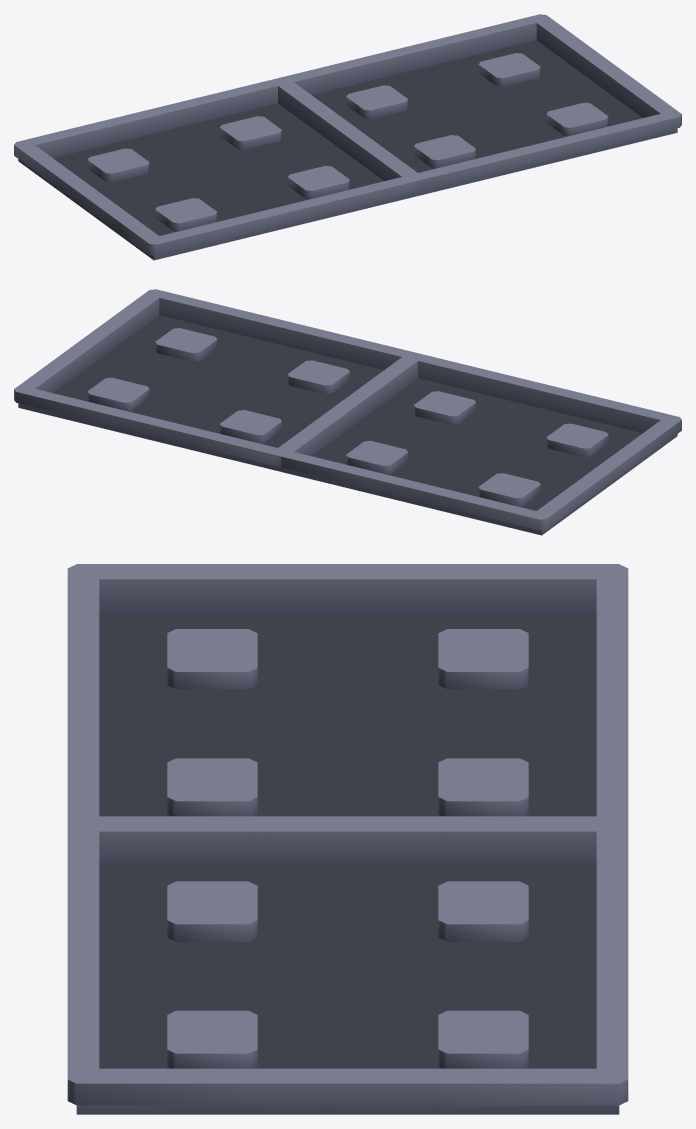
Rendered from commercial-i.glb.
3 renders of one model, top to bottom at view 1: azimuth 30°, elevation 25°; view 2: azimuth 150°, elevation 25°; view 3: azimuth 270°, elevation 25°, orthographic. The views are drawn at different scales.
Visible parts, largest first — view 1: building-i; view 2: building-i; view 3: building-i.
Boxes of the visible parts, x1,y1,x2,y2 form: building-i: (14, 14, 681, 260); building-i: (14, 289, 681, 535); building-i: (67, 564, 628, 1114).
Bounding box in the file's own units: 35.1 × 1.12 × 16.
1 material, 1 textured.
